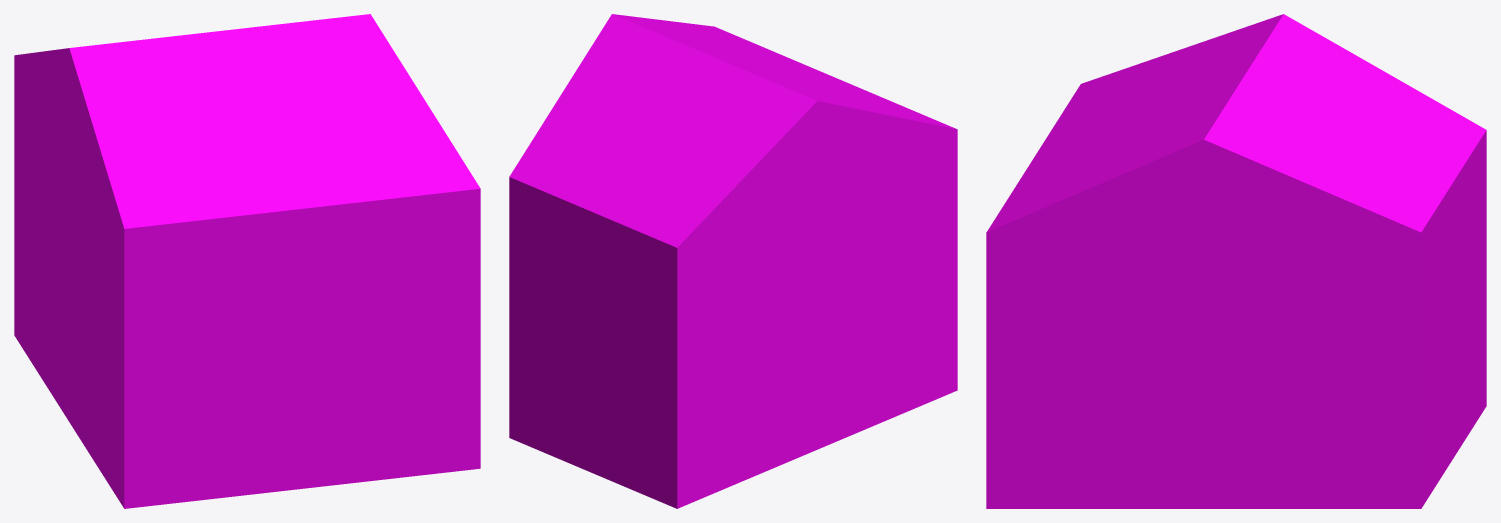
Rendered from studiov9.glb.
3 views of the same model, side by side, from view 1: azimuth 30°, elevation 25°; view 2: azimuth 150°, elevation 25°; view 3: azimuth 270°, elevation 25° (orthographic). The views are drawn at different scales.
Parts seen in each view (by area): view 1: Tandem; view 2: Tandem; view 3: Tandem.
Part boxes in pixels (box(x1,y1,x2,y2)): Tandem: box(14, 14, 480, 508); Tandem: box(509, 14, 957, 508); Tandem: box(986, 14, 1486, 508).
Size of the model in its own units: 8.16 by 9.46 by 11.61.
